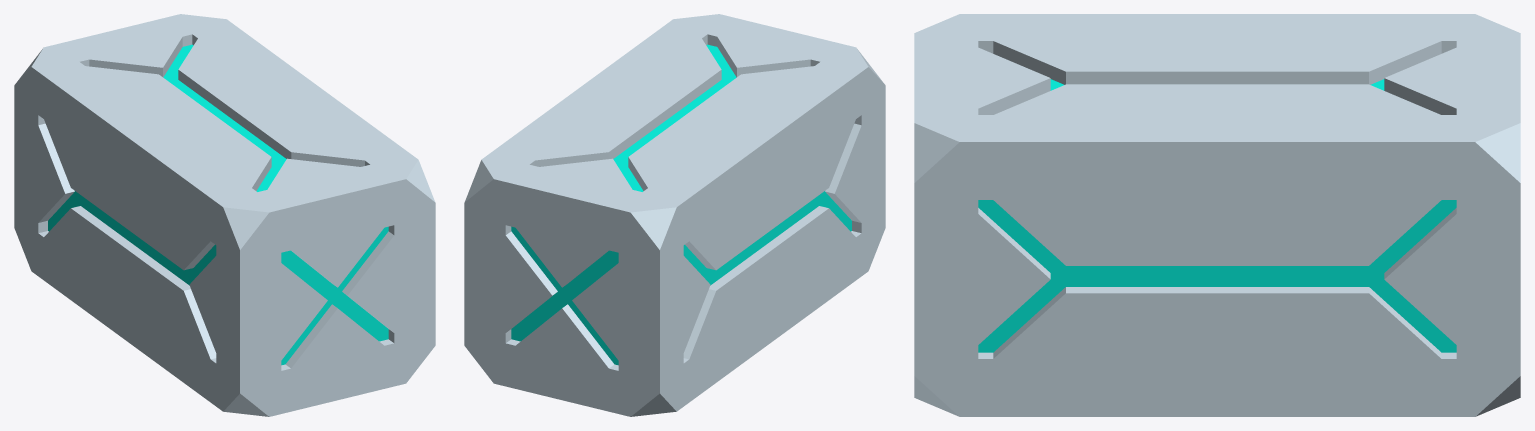
The picture shows the model from 3 angles, left to right: view 1: azimuth 30°, elevation 25°; view 2: azimuth 150°, elevation 25°; view 3: azimuth 270°, elevation 25°; orthographic projection. The views are drawn at different scales.
Parts seen in each view (by area): view 1: box-f; view 2: box-f; view 3: box-f.
Part boxes in pixels (x1,y1,x2,y2): box-f: (14,14,435,416); box-f: (464,14,885,416); box-f: (914,14,1520,416).
Bounding box in the file's own units: 100 × 100 × 200.
